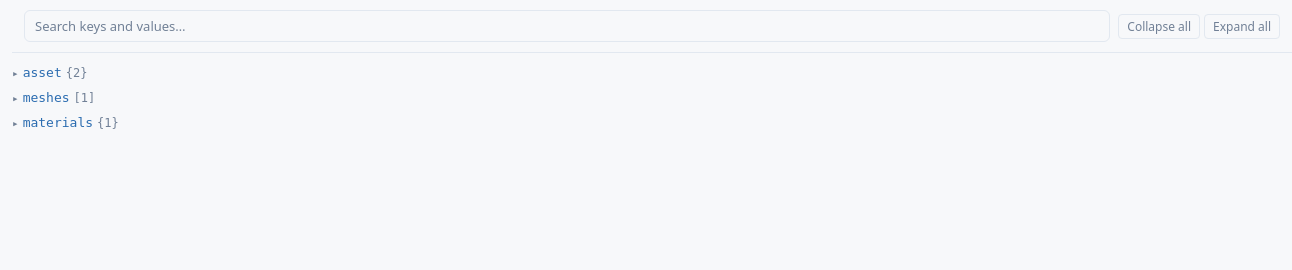
Test: JsonTree – expand/collapse controls › Collapse all after expanding hides tree-children
The image size is (1292, 270).
Click the button titled "Expand all" at (1242, 26), box [1204, 14, 1280, 38]
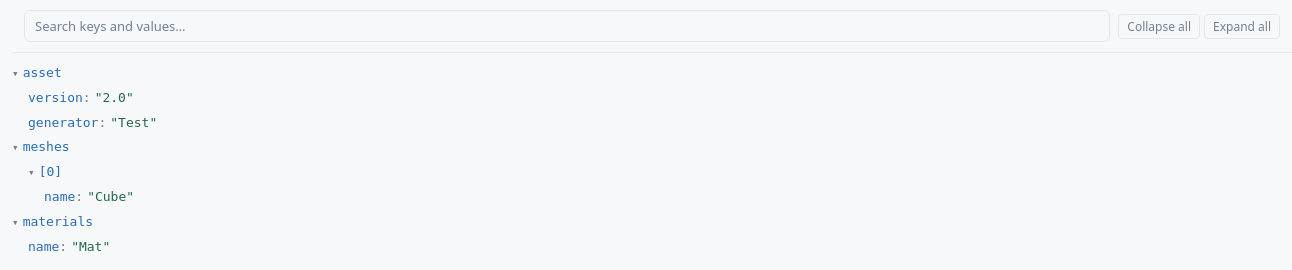
Expected: the element with test id "tree-children" that starts with "version" is shown, [28, 90, 157, 130]
Click the button titled "Collapse all" at (1159, 26), box [1118, 14, 1200, 38]
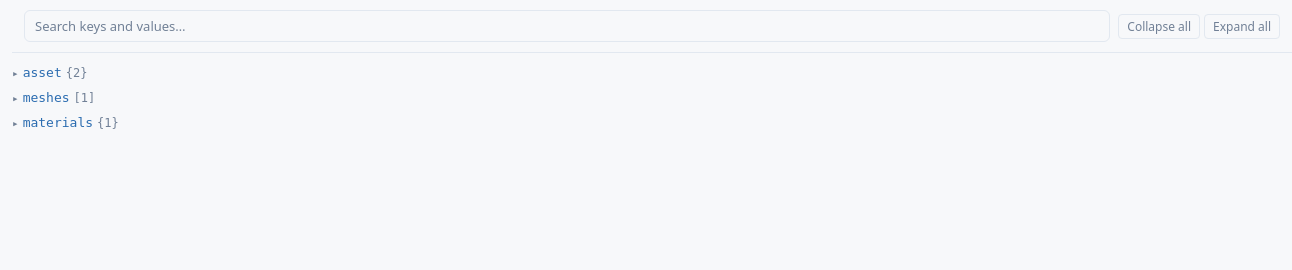
Expected: the element with test id "tree-children" is gone
